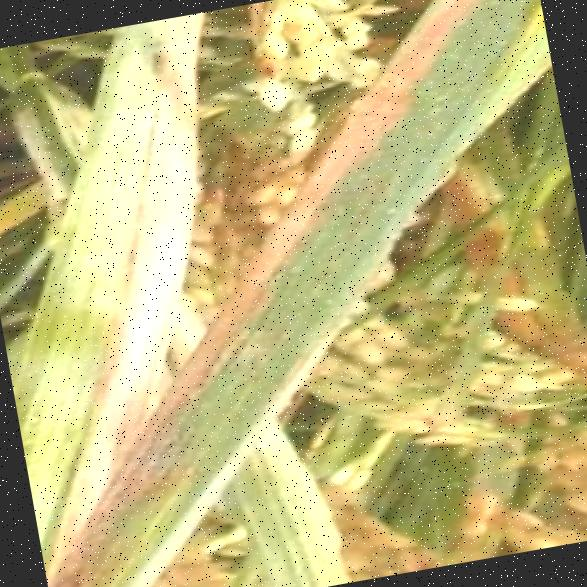Bacteria_Leaf_Blight: (337, 0, 562, 173)
